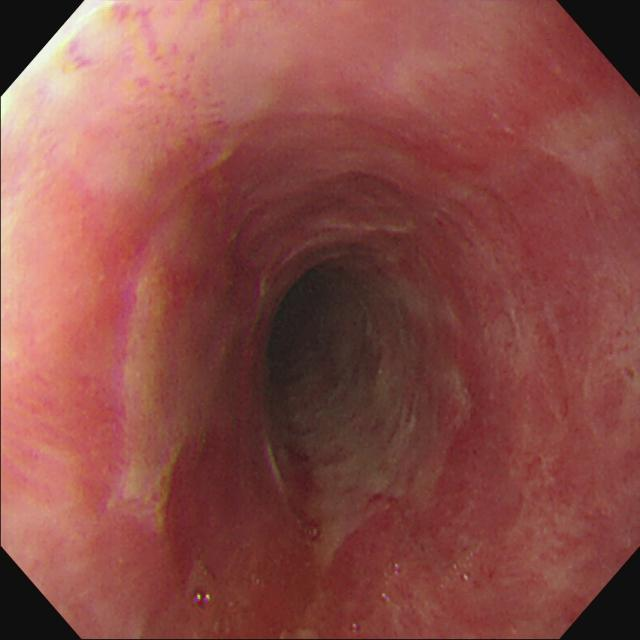A: (449, 195, 640, 638), (160, 434, 322, 639), (324, 489, 448, 638)
